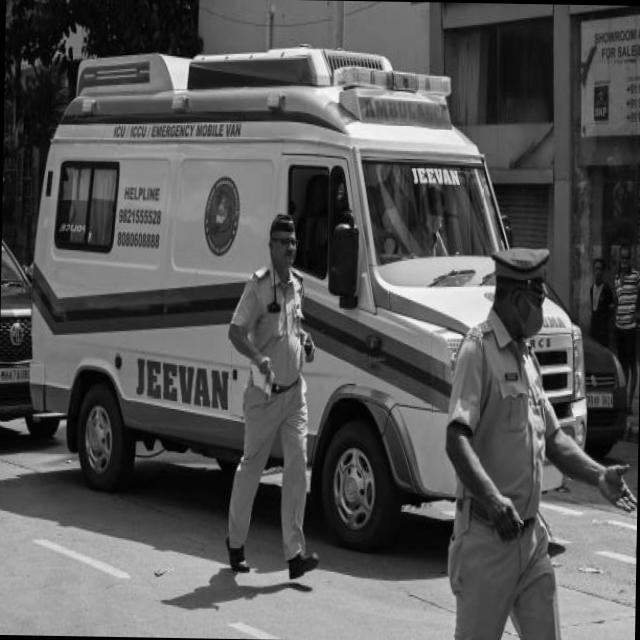ambulance: (58, 158, 180, 282), (120, 345, 234, 429), (112, 112, 255, 150), (356, 96, 453, 134), (404, 160, 469, 198)
